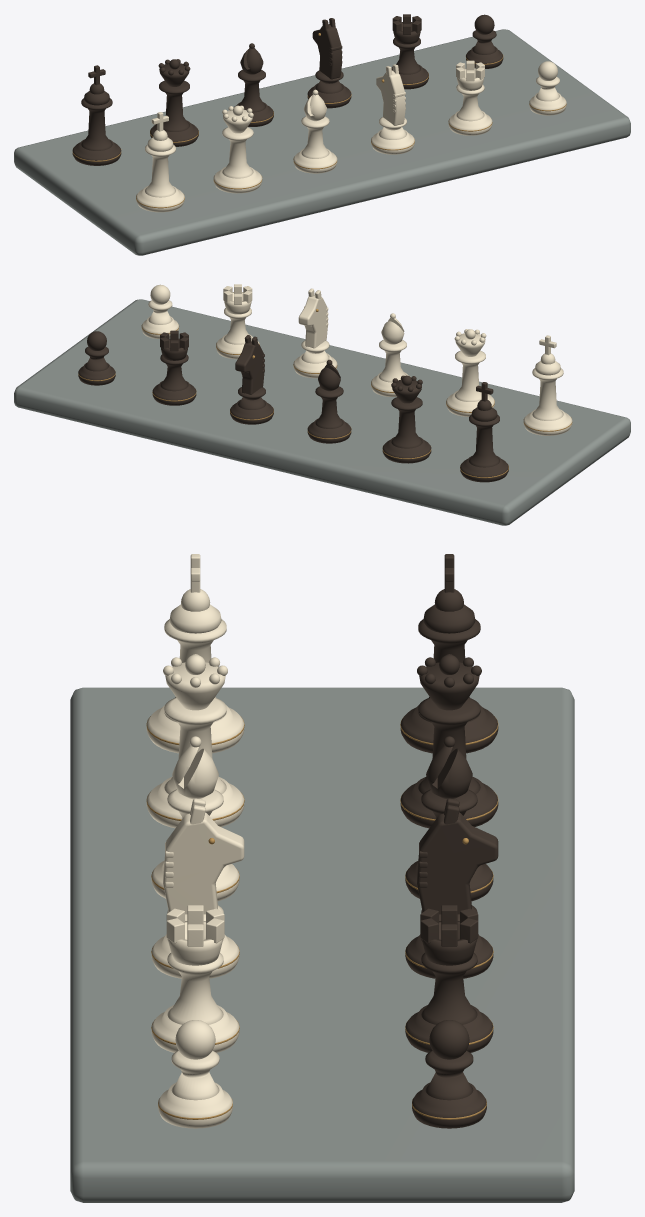
File: collection.glb
3 views of the same model, one above another, from view 1: azimuth 30°, elevation 25°; view 2: azimuth 150°, elevation 25°; view 3: azimuth 270°, elevation 25° (orthographic). The views are drawn at different scales.
Visible parts, largest first — view 1: Gallery plinth, Sculpted horse head.001, Sculpted horse head, queen turned stem, king turned stem, king turned stem.001, queen turned stem.001, bishop turned stem, king foot.001, king foot, queen foot, bishop turned stem.001 (+19 smaller); view 2: Gallery plinth, Sculpted horse head, Sculpted horse head.001, queen turned stem.001, king turned stem.001, king turned stem, queen turned stem, bishop turned stem.001, king foot, king foot.001, queen foot.001, bishop turned stem (+19 smaller); view 3: Gallery plinth, Sculpted horse head.001, Sculpted horse head, rook turned stem.001, rook turned stem, queen turned stem.001, queen turned stem, pawn foot.001, pawn foot, king foot.001, king foot, Bishop mitre.001 (+21 smaller).
Part boxes in pixels (x1,y1,x2,y2): Gallery plinth: (14, 29, 630, 255); Sculpted horse head.001: (312, 24, 342, 79); Sculpted horse head: (376, 70, 405, 125); queen turned stem: (222, 127, 253, 178); king turned stem: (145, 144, 175, 197); king turned stem.001: (81, 98, 112, 150); queen turned stem.001: (159, 80, 189, 131); bishop turned stem: (301, 116, 329, 158); king foot.001: (72, 139, 121, 165); king foot: (136, 185, 184, 212); queen foot: (213, 167, 262, 193); bishop turned stem.001: (238, 70, 265, 112); Gallery plinth: (14, 299, 630, 525); Sculpted horse head: (298, 295, 327, 348); Sculpted horse head.001: (235, 342, 264, 394); queen turned stem.001: (391, 397, 422, 448); king turned stem.001: (469, 414, 499, 467); king turned stem: (532, 368, 563, 420); queen turned stem: (455, 350, 485, 401); bishop turned stem.001: (315, 386, 343, 428); king foot: (523, 409, 572, 435); king foot.001: (460, 455, 508, 482); queen foot.001: (382, 437, 431, 463); bishop turned stem: (379, 340, 406, 382); Gallery plinth: (70, 687, 574, 1202); Sculpted horse head.001: (417, 812, 498, 914); Sculpted horse head: (163, 812, 244, 914); rook turned stem.001: (421, 953, 477, 1024); rook turned stem: (167, 953, 223, 1024); queen turned stem.001: (418, 697, 480, 793); queen turned stem: (164, 697, 226, 793); pawn foot.001: (412, 1082, 486, 1128); pawn foot: (158, 1082, 232, 1128); king foot.001: (400, 705, 498, 753); king foot: (146, 705, 244, 753); Bishop mitre.001: (426, 745, 472, 799).
Bounding box in the file's own units: 0.352 × 0.075 × 0.155.
